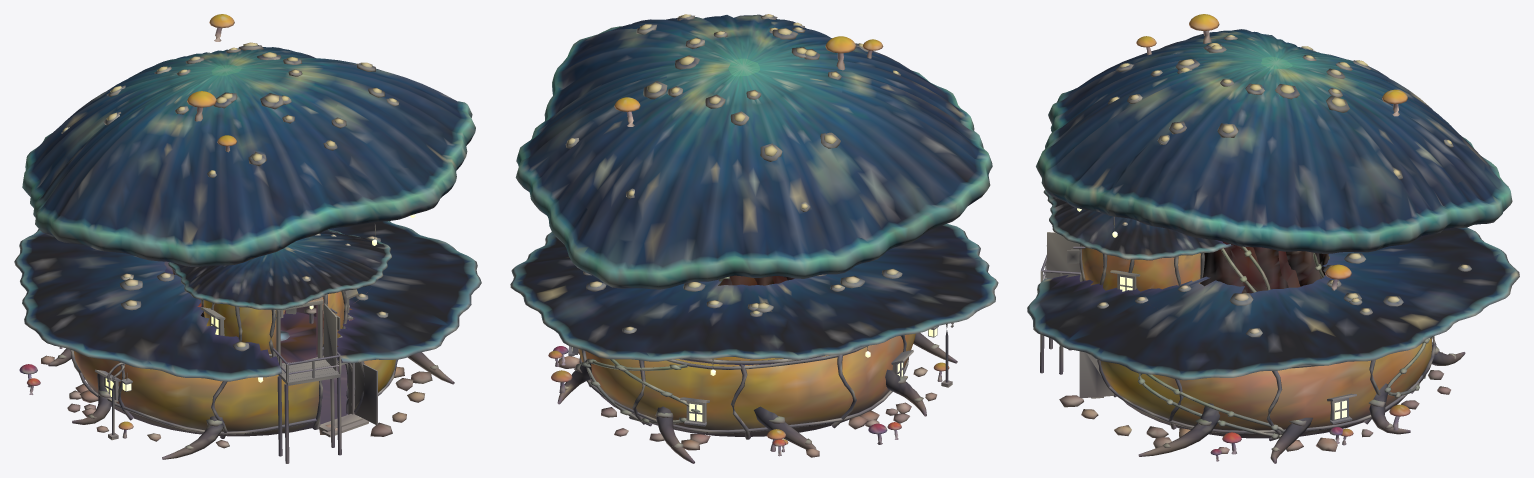
The model's file is ev_uc_kat.glb.
The picture shows the model from 3 angles, left to right: view 1: azimuth 30°, elevation 25°; view 2: azimuth 150°, elevation 25°; view 3: azimuth 270°, elevation 25°; orthographic projection. The views are drawn at different scales.
Parts seen in each view (by area): view 1: ev_uc_kat_LOD0; view 2: ev_uc_kat_LOD0; view 3: ev_uc_kat_LOD0.
Boxes of the visible parts, box(x1,y1,x2,y2) form: ev_uc_kat_LOD0: box(14, 14, 481, 463); ev_uc_kat_LOD0: box(510, 14, 998, 463); ev_uc_kat_LOD0: box(1027, 14, 1519, 463).
Size of what is drawn, in the model's own units: 27.37 by 20.42 by 27.29.
